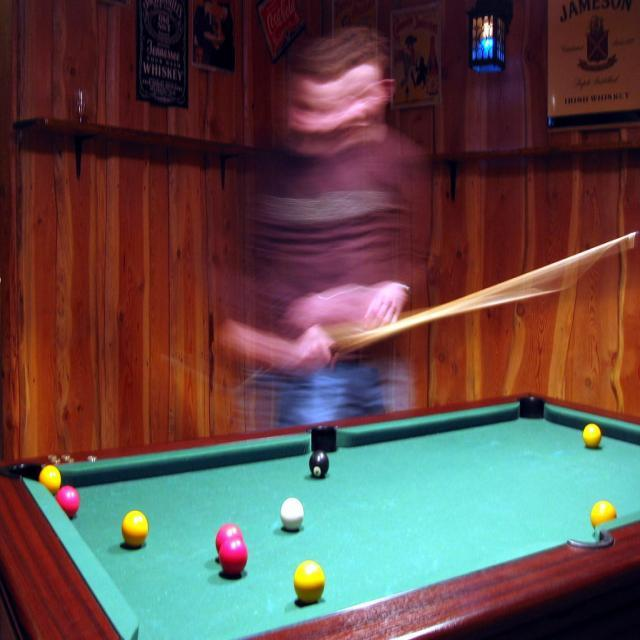Ball: (294, 560, 326, 605), (220, 538, 250, 576), (122, 510, 147, 550), (280, 497, 304, 533), (54, 486, 80, 518), (216, 522, 242, 552), (38, 462, 62, 494), (591, 500, 616, 529), (309, 450, 330, 480), (583, 424, 601, 448)
Billiard table: (0, 393, 640, 640)
